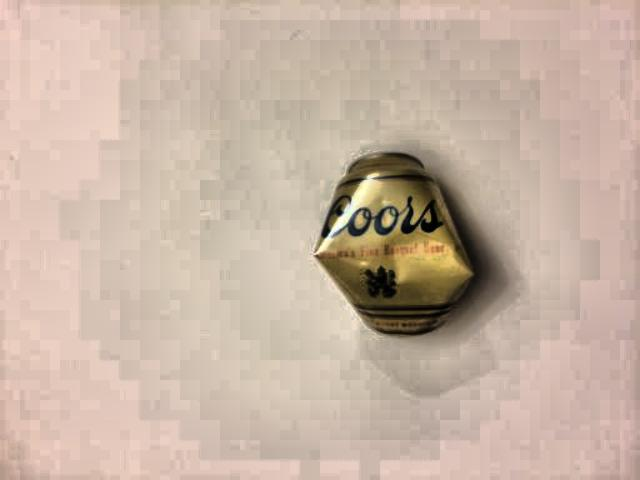Bottles: (315, 141, 495, 378)
